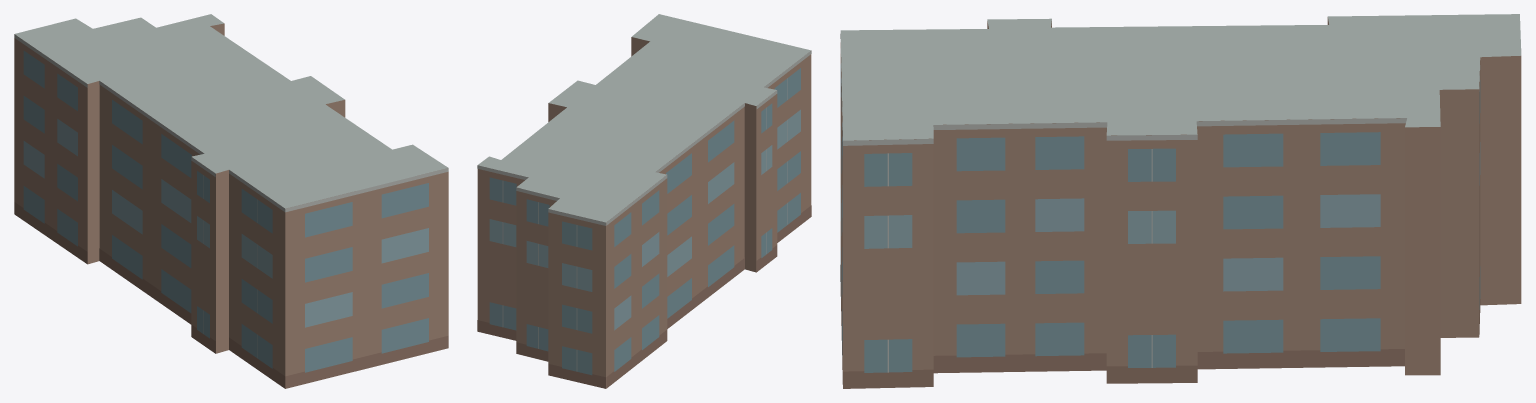
Rendered from survey-upis-32502429.glb.
The picture shows the model from 3 angles, left to right: view 1: azimuth 30°, elevation 25°; view 2: azimuth 150°, elevation 25°; view 3: azimuth 270°, elevation 25°; orthographic projection. The views are drawn at different scales.
Visible parts, largest first — view 1: survey-upis-32502429.tmp; view 2: survey-upis-32502429.tmp; view 3: survey-upis-32502429.tmp.
Part boxes in pixels (box(x1,y1,x2,y2)): survey-upis-32502429.tmp: box(14, 14, 448, 388); survey-upis-32502429.tmp: box(477, 14, 811, 388); survey-upis-32502429.tmp: box(840, 14, 1521, 388).
Bounding box in the file's own units: 12.71 × 11.6 × 28.85.
